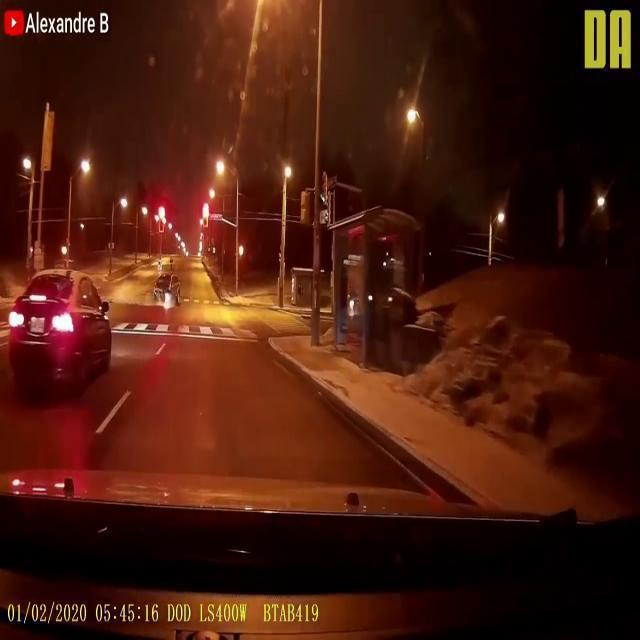accident: (152, 273, 180, 305)
